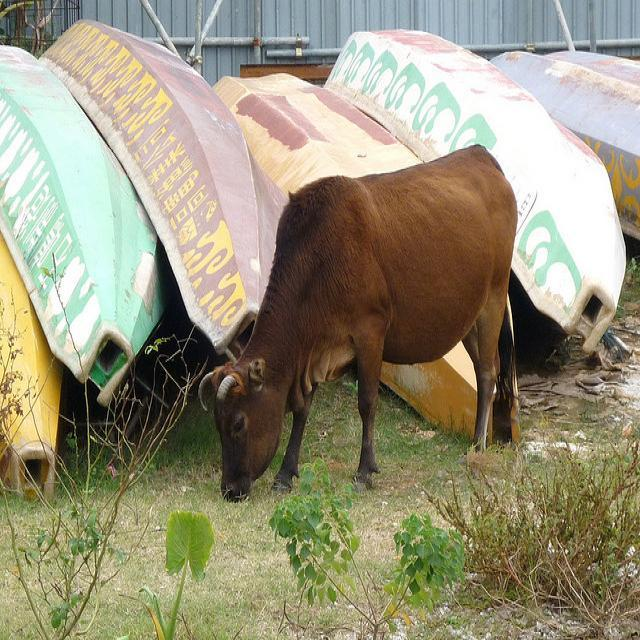cow: (196, 138, 517, 499)
